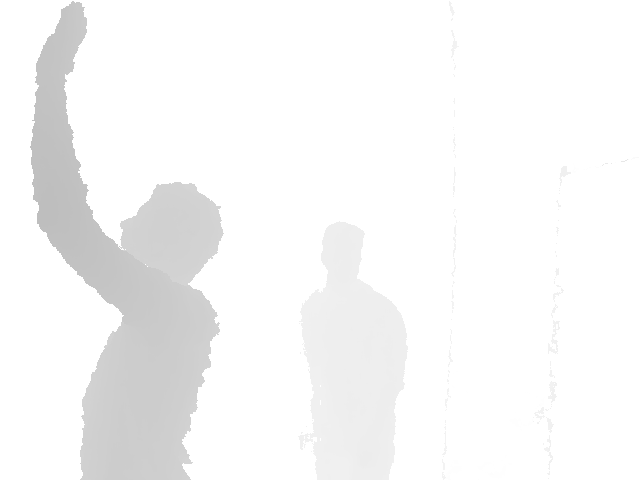hand: (36, 1, 87, 87)
head: (120, 180, 224, 296), (320, 220, 364, 287)
person: (29, 1, 225, 480), (298, 220, 408, 480)
